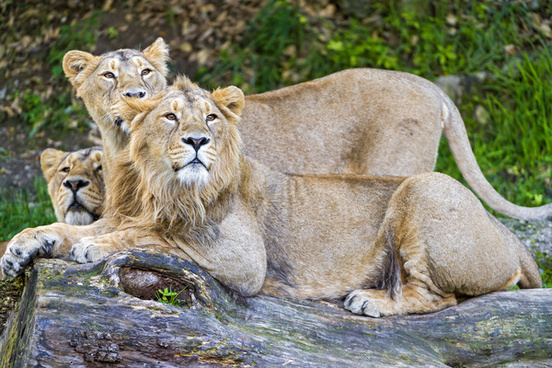lion: (133, 93, 245, 200), (62, 43, 178, 128), (42, 147, 125, 228)
